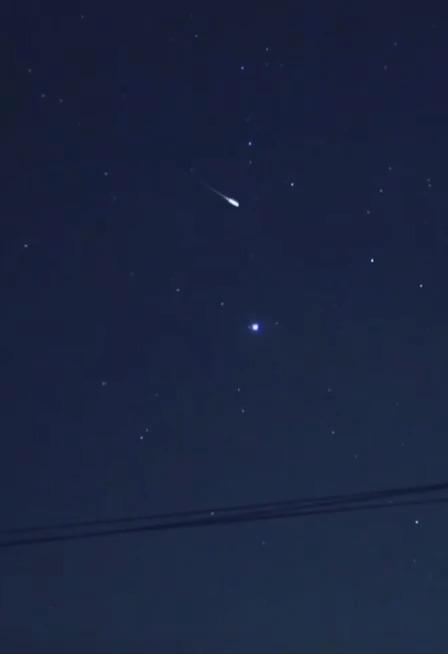meteorite: (182, 178, 253, 217)
